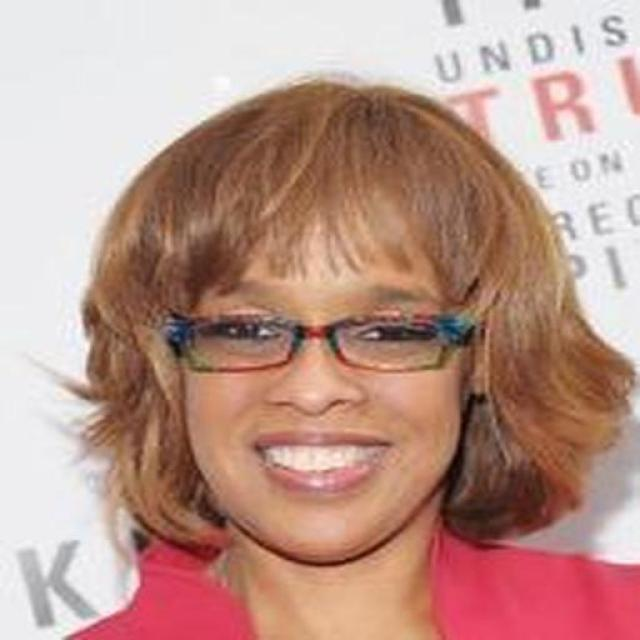bareface: (89, 80, 536, 543)
